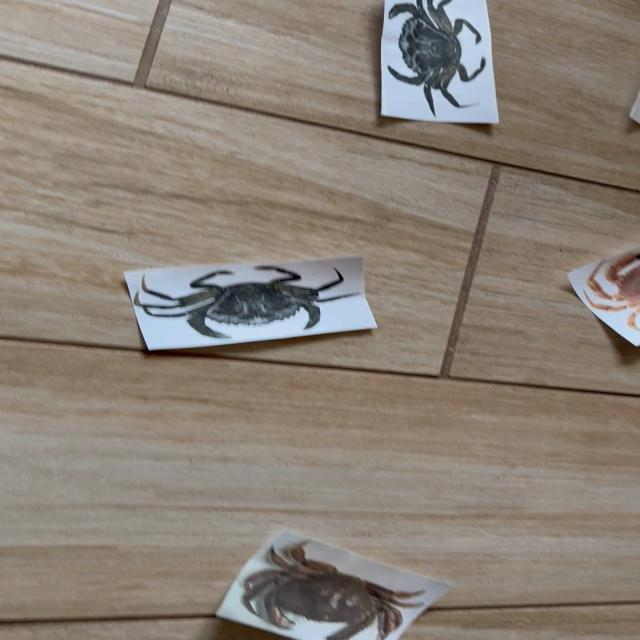egc: (142, 266, 359, 339), (388, 0, 486, 116)
